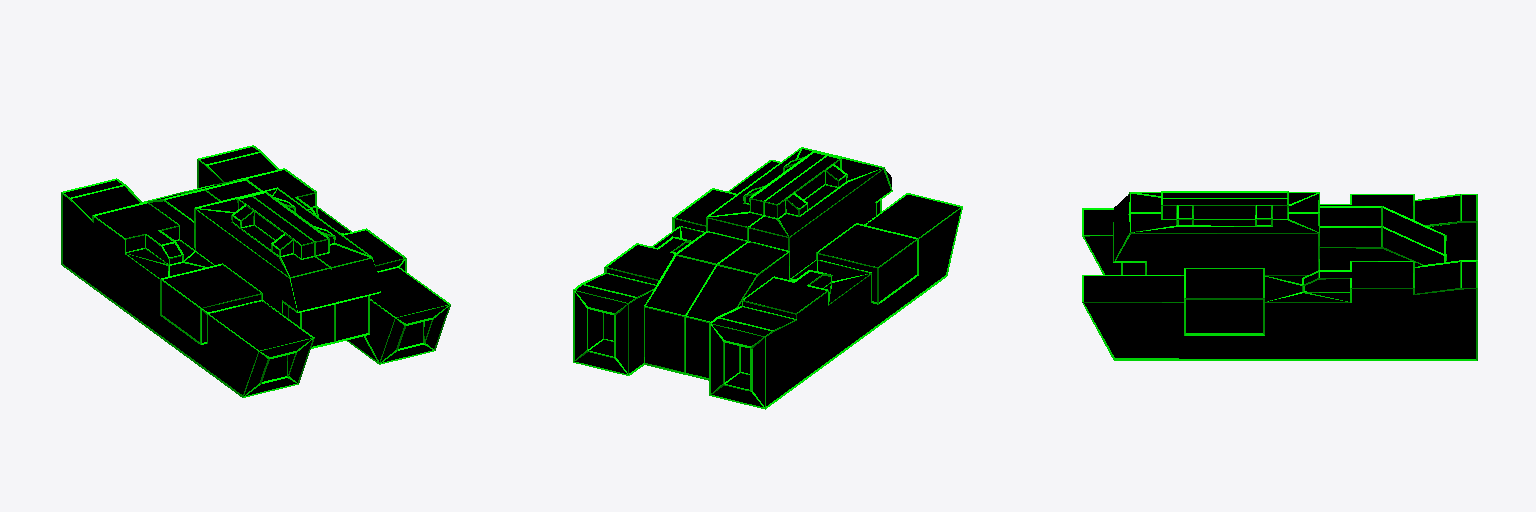
Rendered from enemy_a_wired.obj.
3 views of the same model, side by side, from view 1: azimuth 30°, elevation 25°; view 2: azimuth 150°, elevation 25°; view 3: azimuth 270°, elevation 25° (orthographic).
Parts seen in each view (by area): view 1: craft_cargoB.001, craft_cargoB; view 2: craft_cargoB.001, craft_cargoB; view 3: craft_cargoB.001, craft_cargoB.
Part boxes in pixels (x1,y1,x2,y2): craft_cargoB.001: (63, 147, 448, 395); craft_cargoB: (61, 145, 450, 397); craft_cargoB.001: (575, 149, 960, 406); craft_cargoB: (573, 147, 962, 409); craft_cargoB.001: (1084, 193, 1475, 358); craft_cargoB: (1082, 191, 1477, 360).
Size of the model in its own units: 6.68 by 3.62 by 11.13.